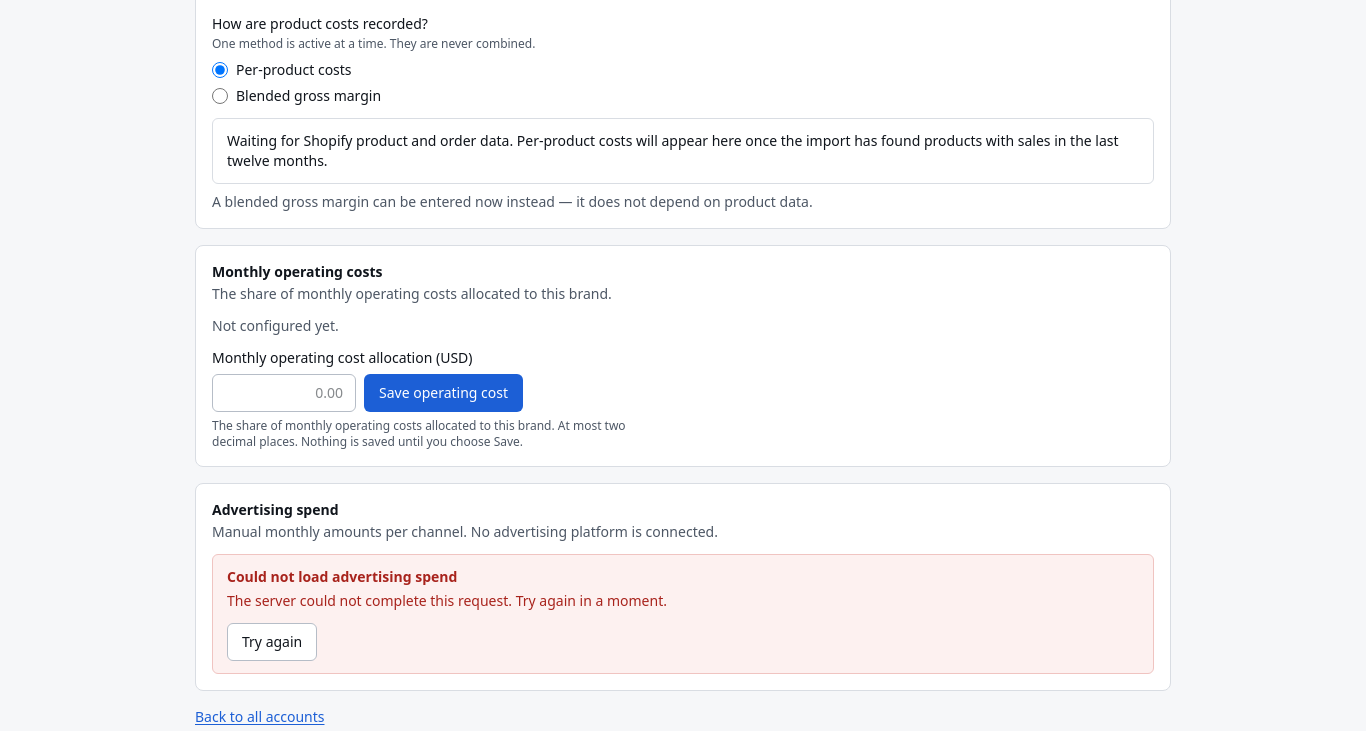
Test: the financial inputs section › offers a retry for a retryable load failure
The image size is (1366, 731).
(page scrolled)
Check: the text "The server could not complete this request. Try again in a moment." is shown, box [227,591,667,610]
What coordinates should you click on to do the following:
click the button "Try again"
I would click on:
 (272, 642)
Its box is [227,623,317,661].
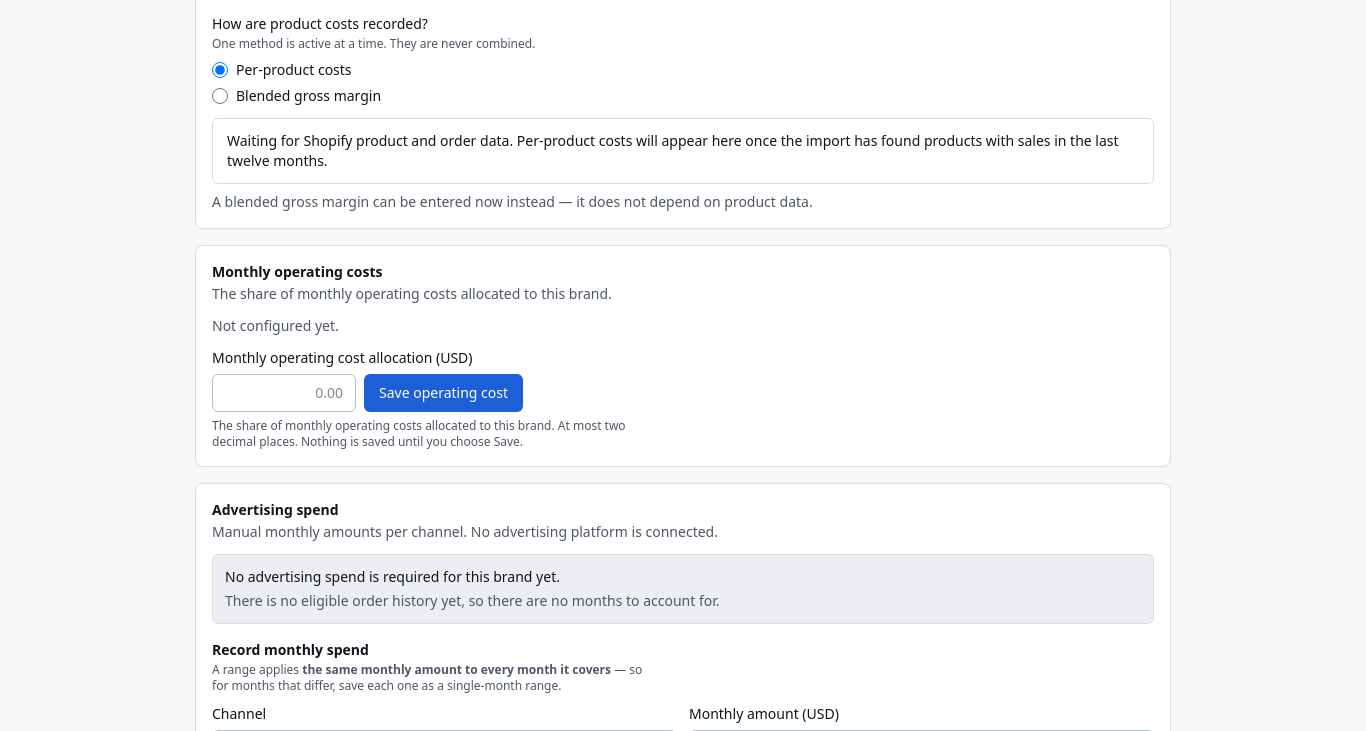
Check: the text "No advertising spend is required for this brand yet." is shown, box [225,567,560,586]
